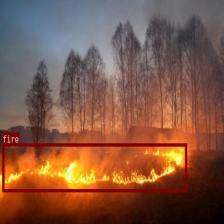fire: (2, 143, 186, 192)
